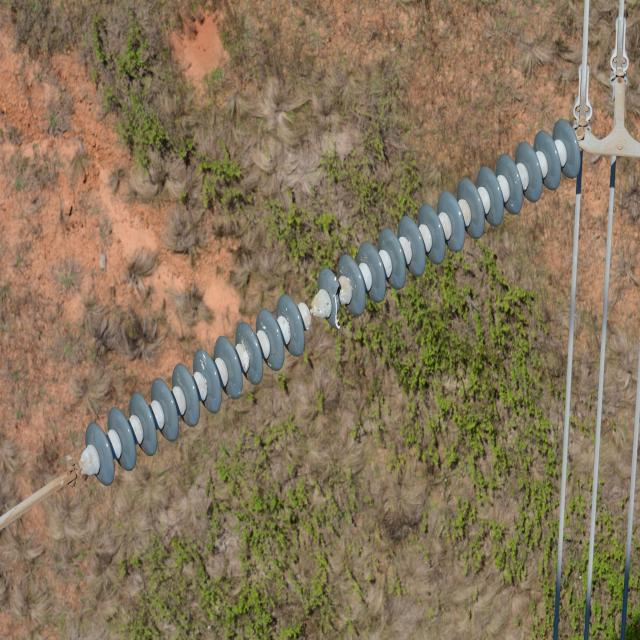broken: (330, 276, 342, 328)
insulator: (86, 116, 579, 488)
